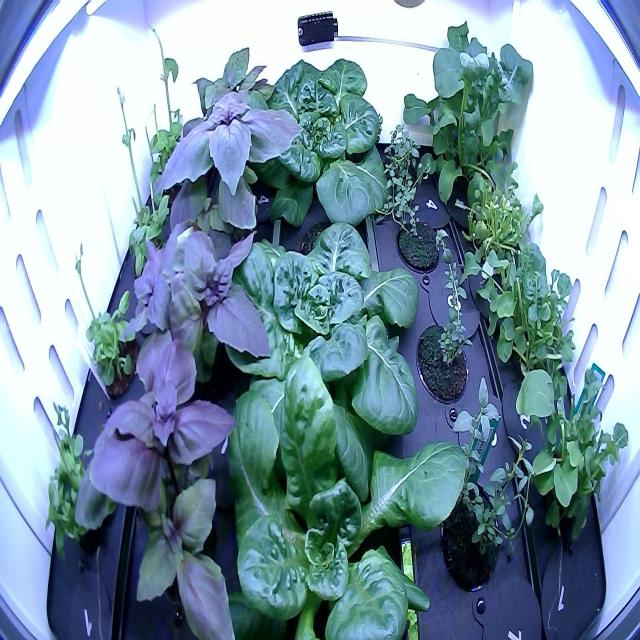Ready: (193, 348, 477, 639), (200, 206, 434, 482), (239, 47, 395, 244)
